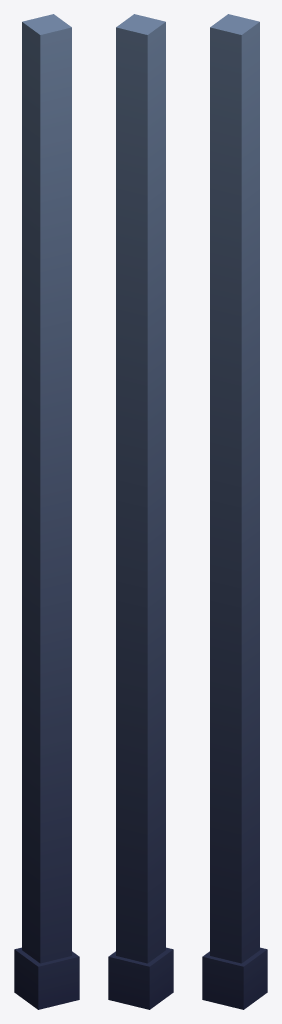
The model's file is BigCollum_Sanctuary.fbx.
3 renders of one model, left to right at view 1: azimuth 30°, elevation 25°; view 2: azimuth 150°, elevation 25°; view 3: azimuth 330°, elevation 25°, orthographic.
Visible parts, largest first — view 1: BigColumn.002; view 2: BigColumn.002; view 3: BigColumn.002.
Part boxes in pixels (x1,y1,x2,y2): BigColumn.002: [14, 14, 79, 1009]; BigColumn.002: [108, 14, 173, 1009]; BigColumn.002: [202, 14, 267, 1009].
Size of the model in its own units: 998 by 22444 by 998.
1 material, 1 textured.
